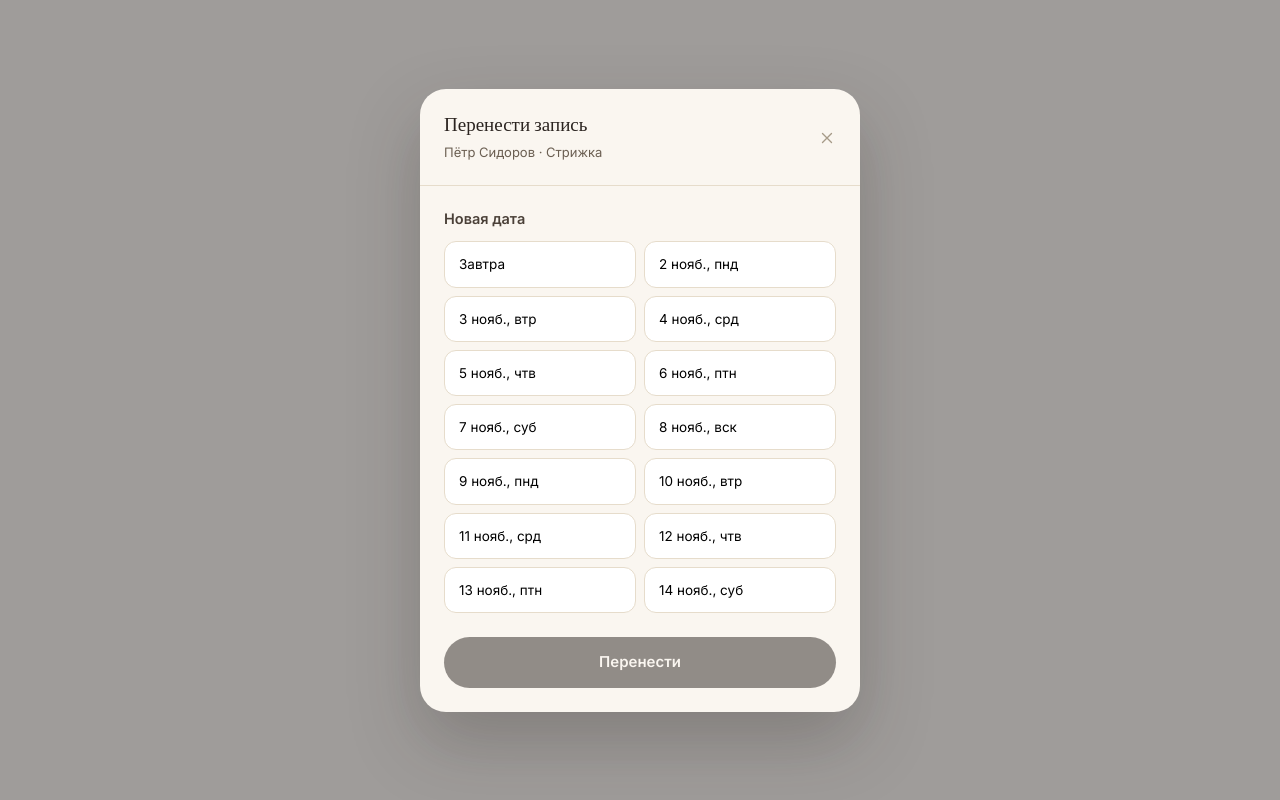
Test case: RescheduleModal — F7: reads the time grid from the server, not a hand-rolled generator › renders slots the server returns
Click the button "Завтра" at [540, 264], box [444,241,636,288]
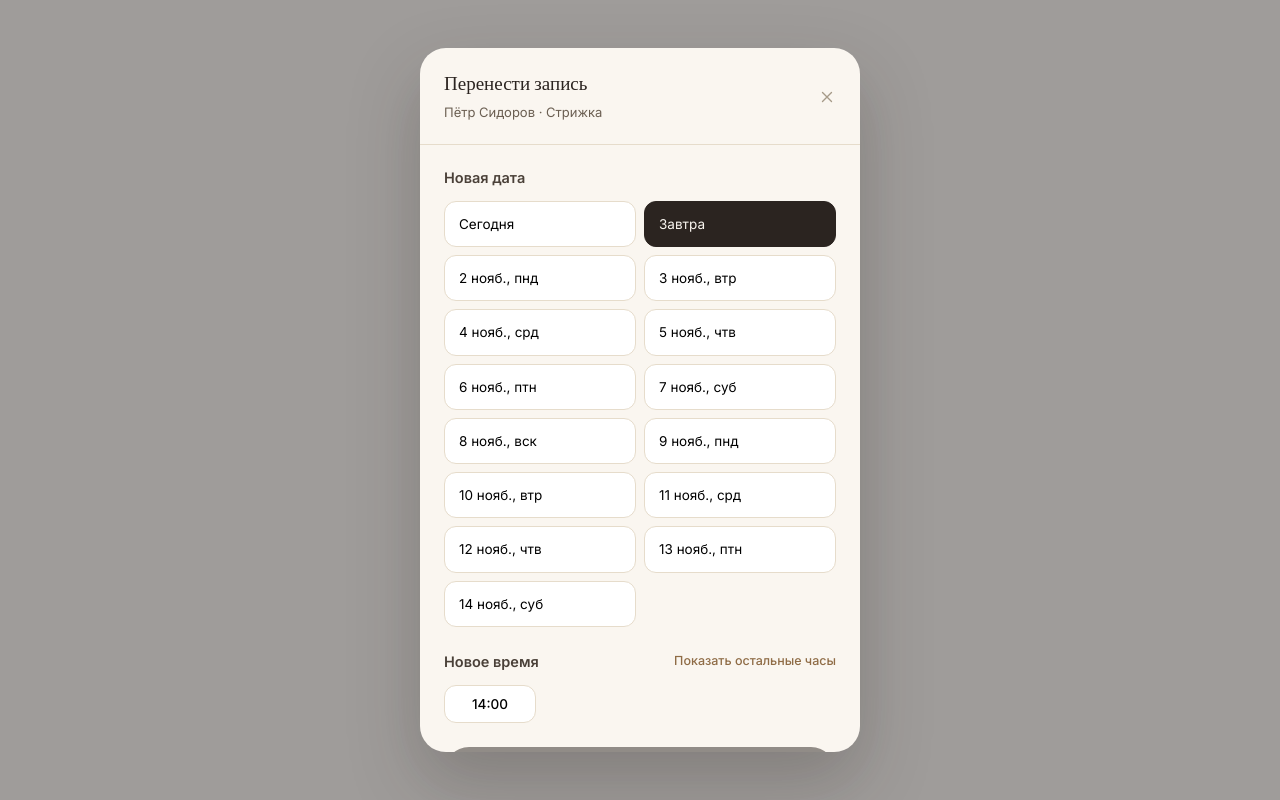
Expected: the button "14:00" is shown, [444,684,536,723]
